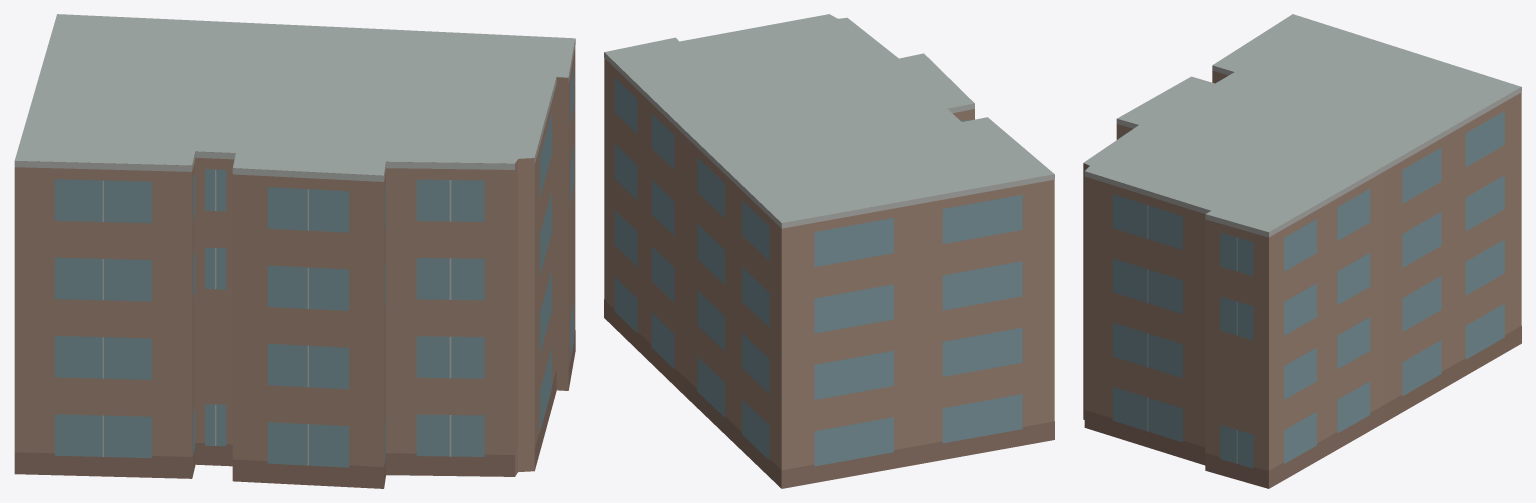
The model's file is survey-upis-32850011.glb.
3 renders of one model, left to right at view 1: azimuth 30°, elevation 25°; view 2: azimuth 150°, elevation 25°; view 3: azimuth 270°, elevation 25°, orthographic. The views are drawn at different scales.
Parts seen in each view (by area): view 1: survey-upis-32850011.tmp; view 2: survey-upis-32850011.tmp; view 3: survey-upis-32850011.tmp.
Part boxes in pixels (x1,y1,x2,y2): survey-upis-32850011.tmp: (14, 14, 575, 488); survey-upis-32850011.tmp: (604, 14, 1054, 488); survey-upis-32850011.tmp: (1083, 14, 1521, 488).
Bounding box in the file's own units: 21.72 × 11.9 × 18.44.
